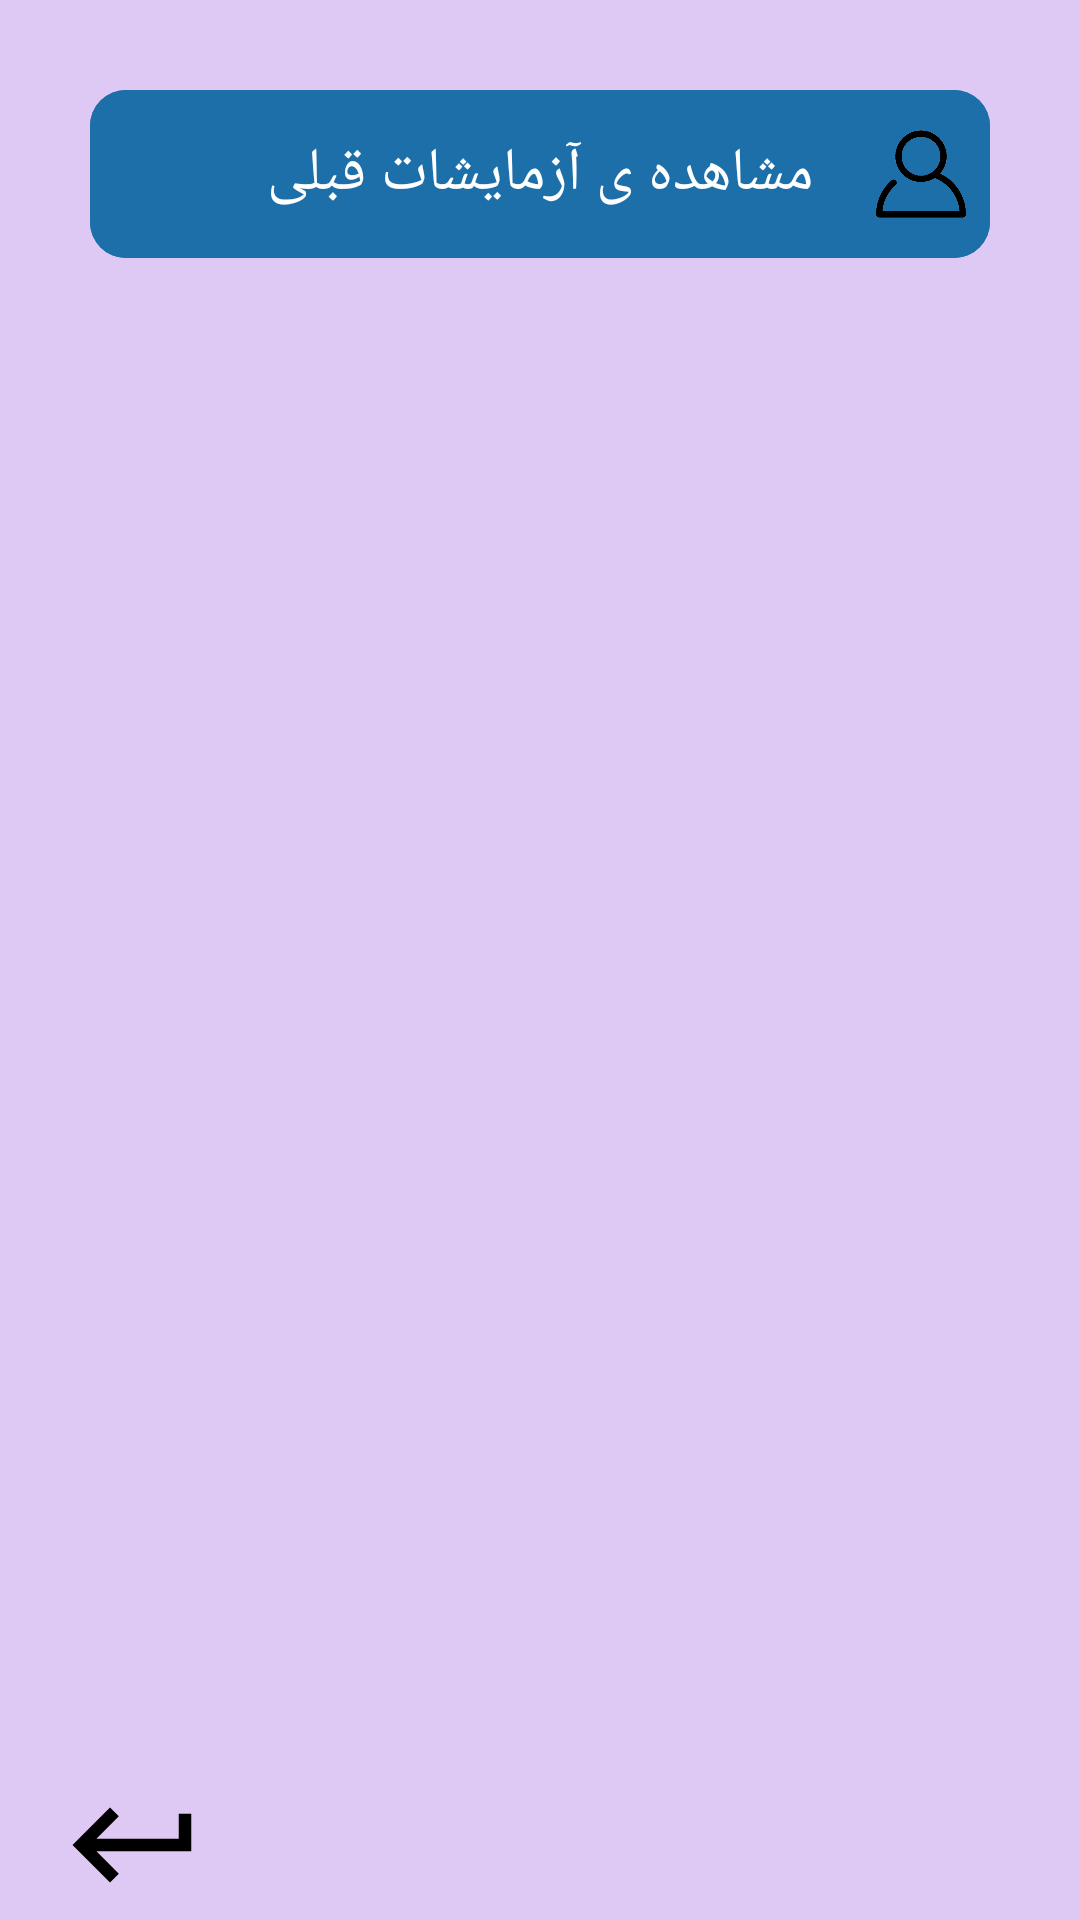

Icon bounding boxes for this 1080 x 1920 phone screenshot, format (x1, y1, x2, y2):
keyboard return: (72, 1807, 192, 1883)
